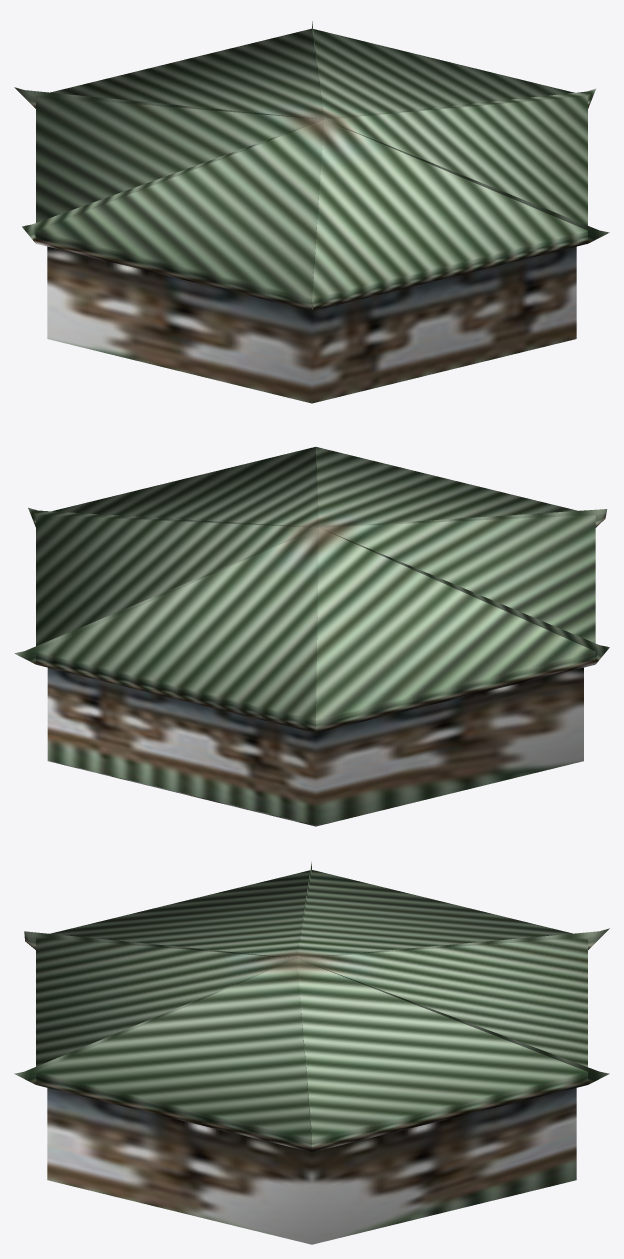
Rendered from Chinese_Disc.fbx.
3 views of the same model, one above another, from view 1: azimuth 30°, elevation 25°; view 2: azimuth 150°, elevation 25°; view 3: azimuth 270°, elevation 25° (orthographic).
Parts seen in each view (by area): view 1: Chinese_Disc; view 2: Chinese_Disc; view 3: Chinese_Disc.
Boxes of the visible parts, x1,y1,x2,y2 form: Chinese_Disc: (14, 21, 609, 403); Chinese_Disc: (14, 447, 609, 826); Chinese_Disc: (14, 861, 609, 1244).
Bounding box in the file's own units: 4.64 × 1.23 × 4.16.
